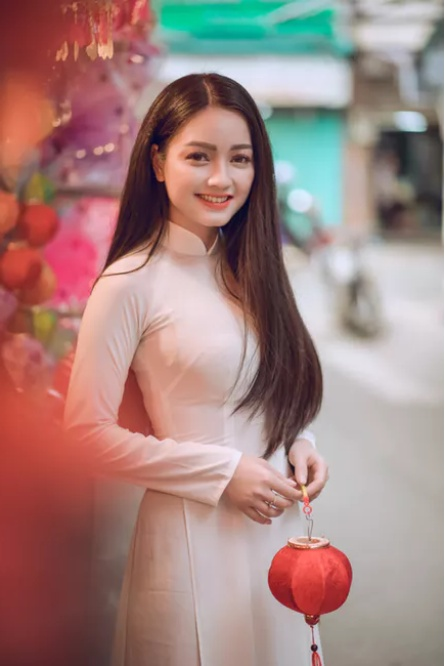face: (166, 108, 256, 228)
